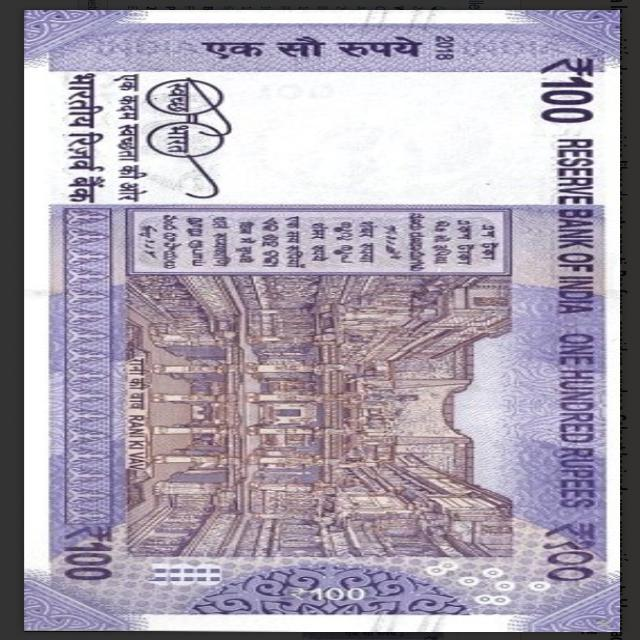100IndianRupees: (27, 9, 614, 630), (29, 9, 615, 357), (27, 292, 628, 628)
